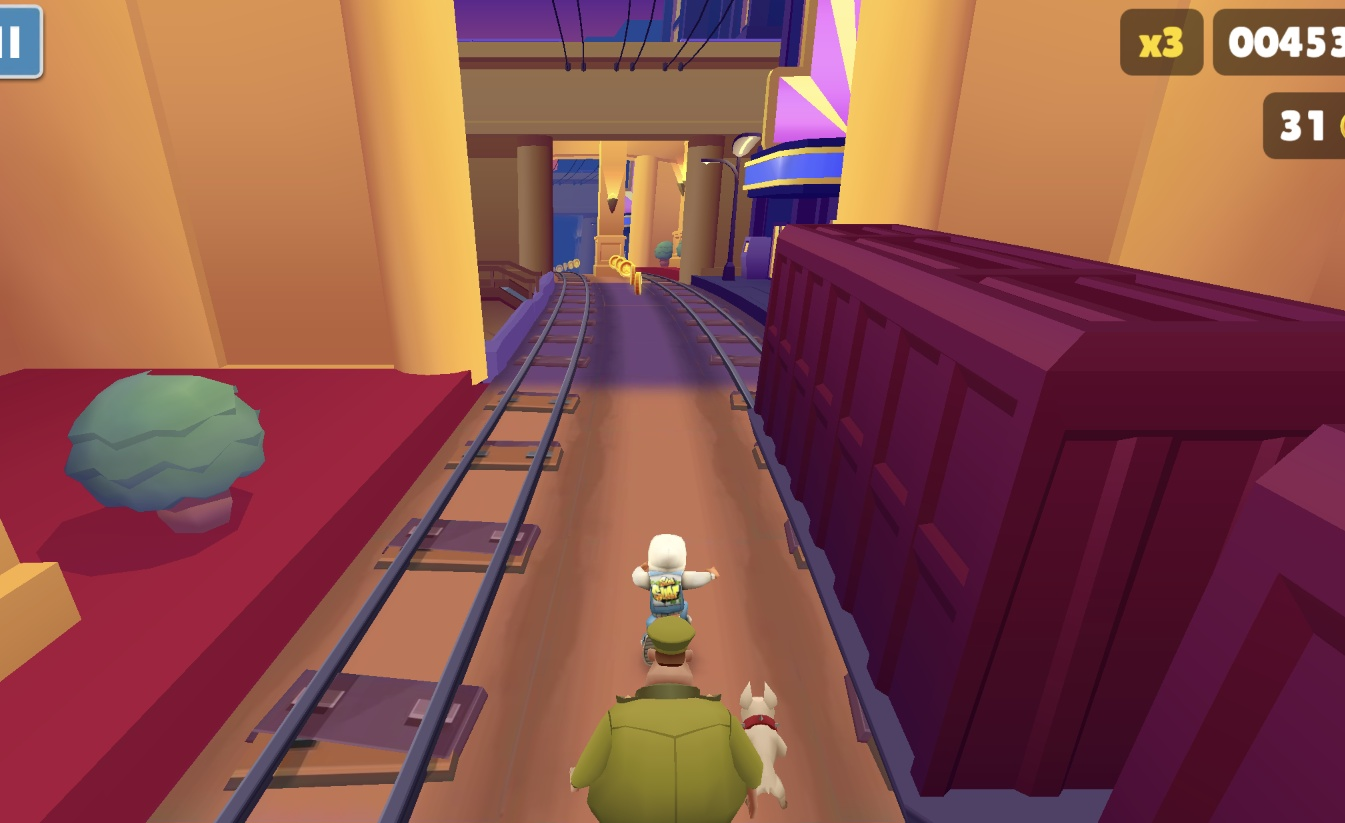pillar: (591, 142, 634, 285)
train: (752, 224, 1345, 823)
